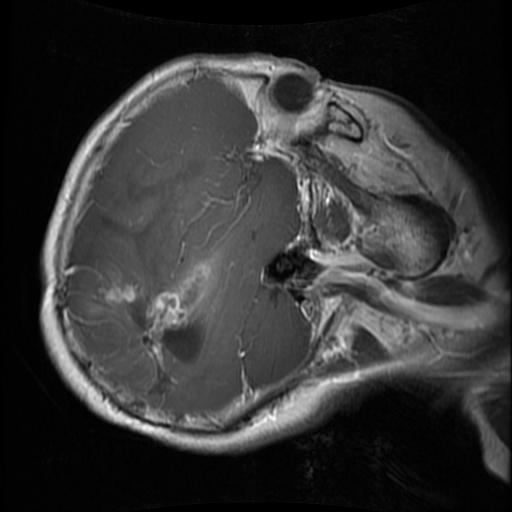glioma: (97, 248, 224, 379)
